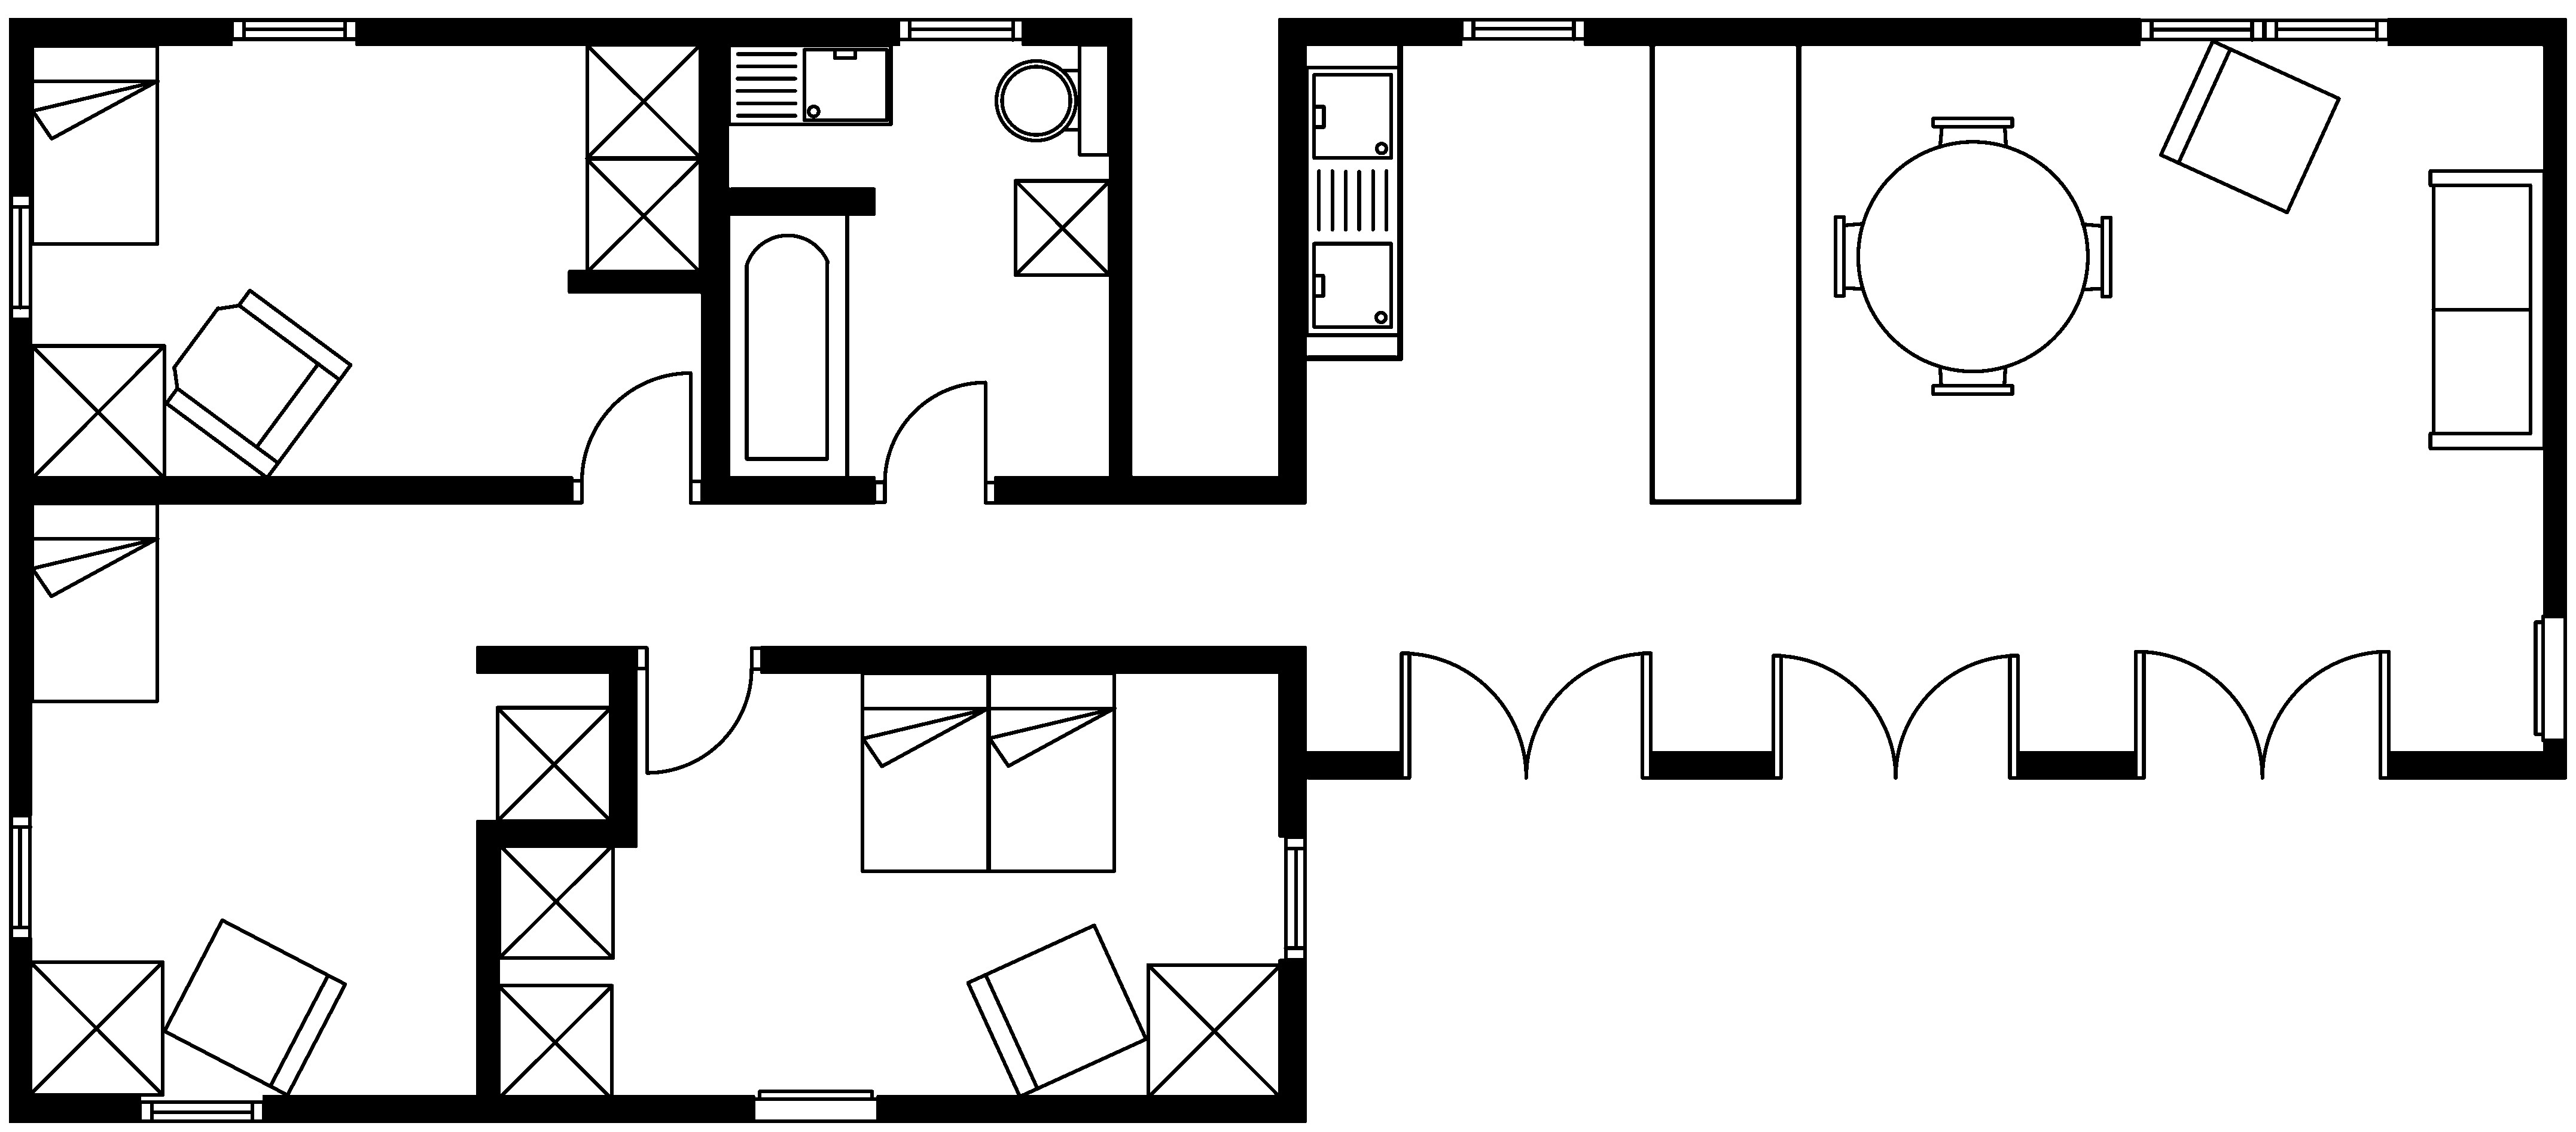armchair: (163, 288, 352, 480)
bed: (28, 501, 159, 703), (859, 670, 991, 872), (986, 670, 1117, 872), (30, 43, 159, 246)
coffee_table: (26, 959, 164, 1097), (1145, 963, 1283, 1099), (30, 343, 166, 480), (583, 41, 702, 161), (494, 982, 614, 1101), (494, 705, 613, 823), (496, 841, 614, 959), (585, 156, 702, 274), (1012, 177, 1112, 278)
large_sink: (994, 41, 1111, 156)
large_sofa: (2428, 168, 2546, 450)
round_table: (1832, 115, 2113, 396)
sink: (726, 43, 894, 127)
small_sofa: (161, 917, 347, 1097), (966, 923, 1148, 1099), (2159, 38, 2341, 214)
tub: (726, 210, 849, 483)
twin_sink: (1304, 64, 1401, 337)
